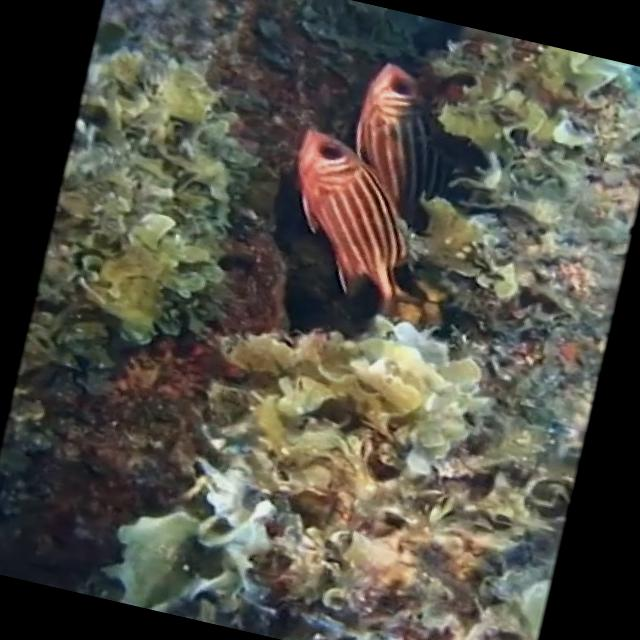Asker Baligi: (262, 117, 435, 338), (319, 52, 466, 226)
